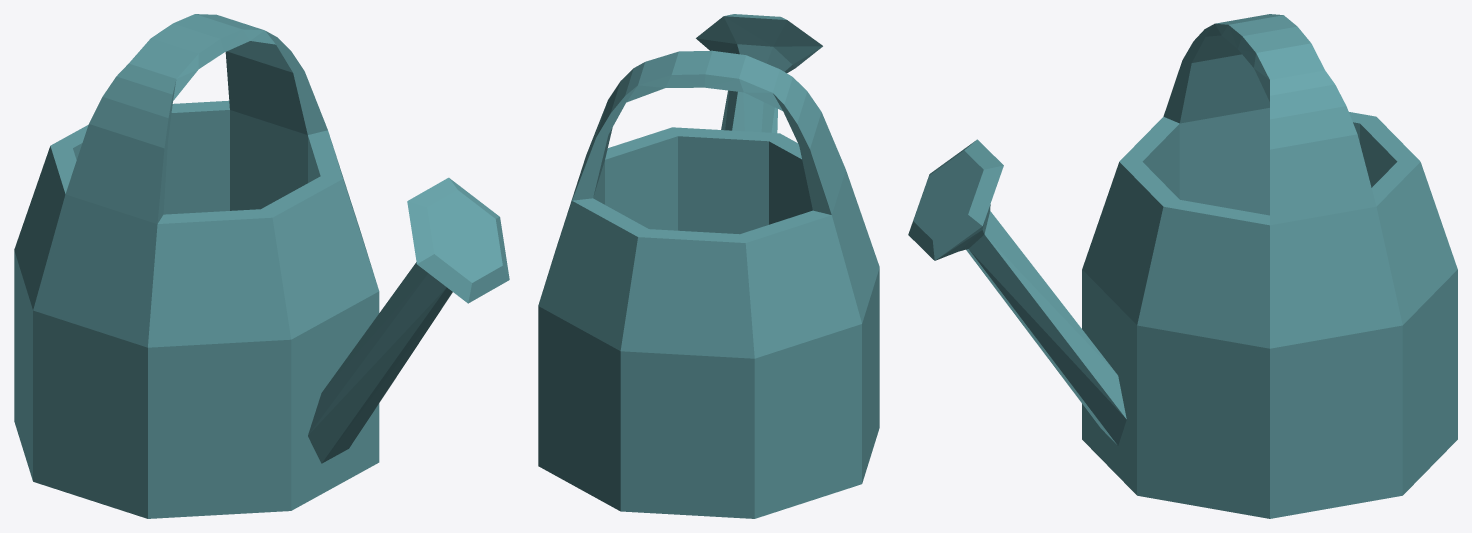
The model's file is watercan.fbx.
3 renders of one model, left to right at view 1: azimuth 30°, elevation 25°; view 2: azimuth 150°, elevation 25°; view 3: azimuth 270°, elevation 25°, orthographic. The views are drawn at different scales.
Parts seen in each view (by area): view 1: Cylinder; view 2: Cylinder; view 3: Cylinder.
Part boxes in pixels (bbox=[...]): Cylinder: bbox=[14, 14, 509, 518]; Cylinder: bbox=[538, 14, 879, 518]; Cylinder: bbox=[908, 14, 1457, 518].
Size of the model in its own units: 90.27 by 108 by 132.
